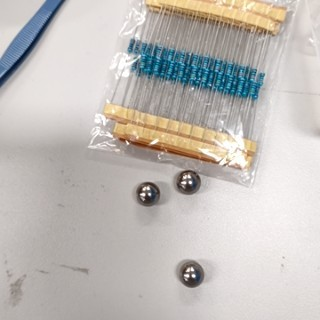ironball: (121, 165, 169, 217), (163, 246, 213, 290), (168, 162, 200, 204)
